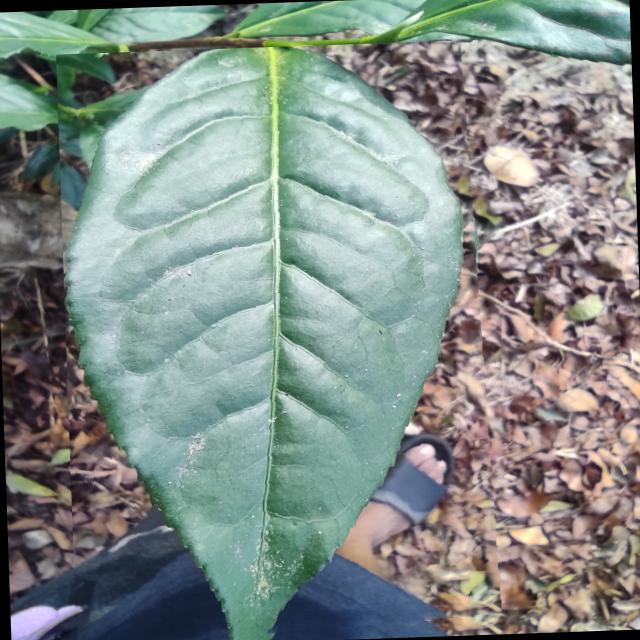Category D(7+ days, Not for Tea): (55, 38, 502, 640)
